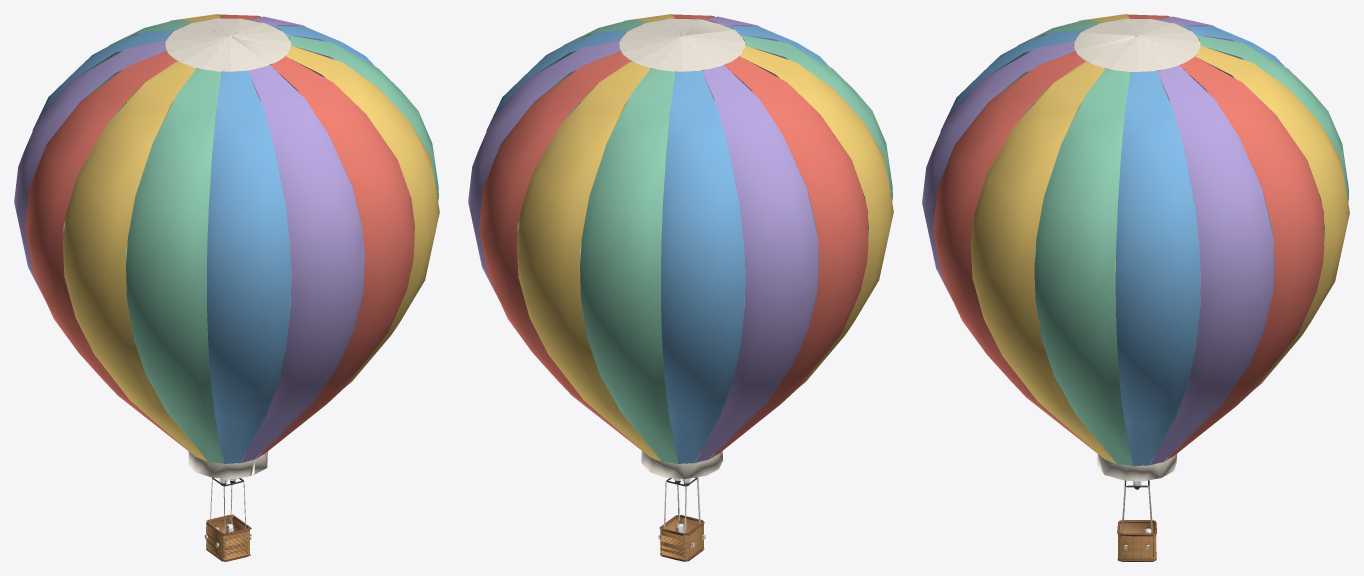
Rendered from hot-air-balloon.glb.
3 views of the same model, side by side, from view 1: azimuth 30°, elevation 25°; view 2: azimuth 150°, elevation 25°; view 3: azimuth 270°, elevation 25° (orthographic).
Visible parts, largest first — view 1: hot-air-balloon_envelope, hot-air-balloon_body; view 2: hot-air-balloon_envelope, hot-air-balloon_body; view 3: hot-air-balloon_envelope, hot-air-balloon_body.
Boxes of the visible parts, x1,y1,x2,y2 form: hot-air-balloon_envelope: (14, 14, 439, 478); hot-air-balloon_body: (204, 477, 251, 561); hot-air-balloon_envelope: (468, 14, 893, 478); hot-air-balloon_body: (658, 477, 705, 561); hot-air-balloon_envelope: (922, 14, 1349, 481); hot-air-balloon_body: (1117, 480, 1156, 561).
Size of the model in its own units: 15.57 by 20.85 by 15.56.
Materials: 8 (1 with a texture image).
